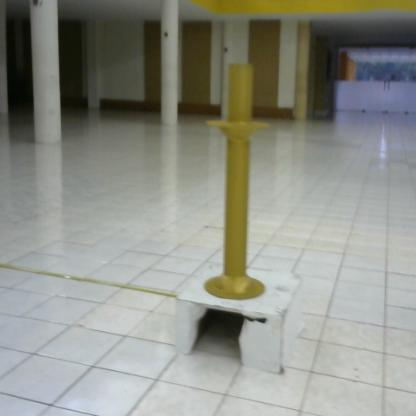pole: (200, 58, 273, 308)
